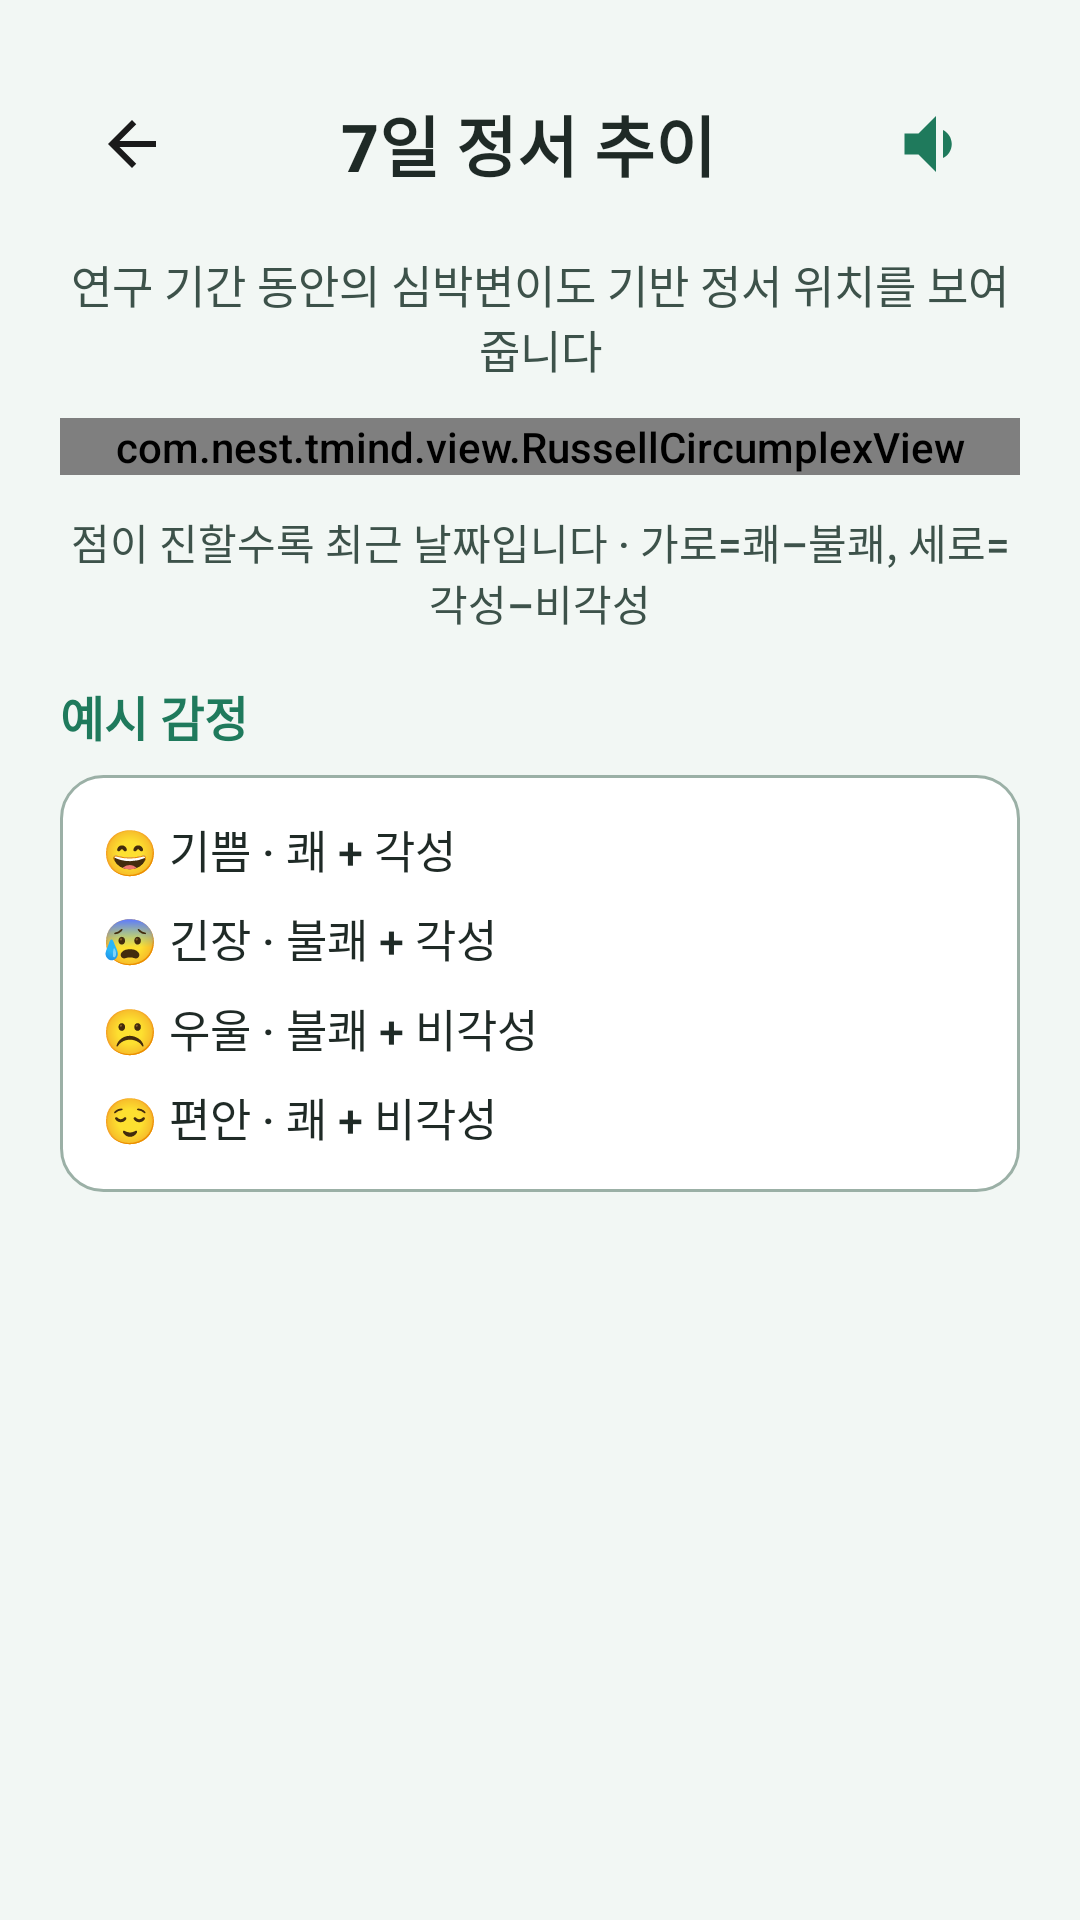

Icon click points for this 1080 × 1920 phone screenshot, format (x,y):
이전: (132,144)
읽어주기: (928,144)
